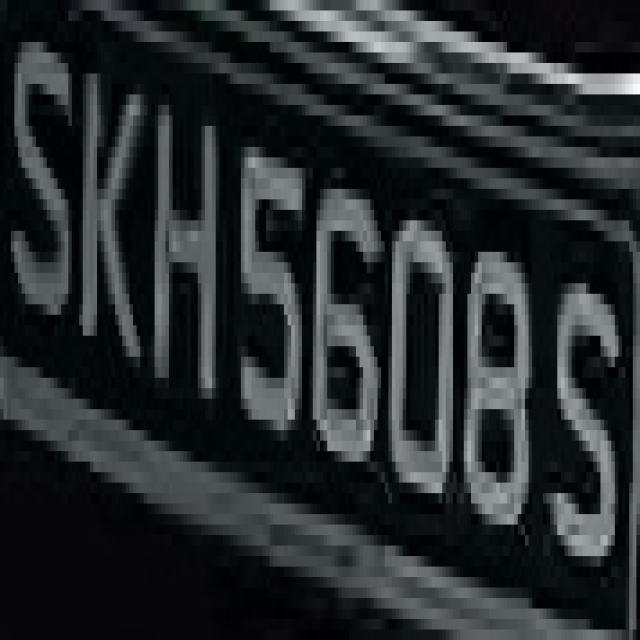0: (381, 158, 460, 546)
5: (219, 116, 306, 440)
6: (306, 126, 378, 514)
8: (453, 231, 547, 566)
H: (151, 74, 227, 451)
K: (68, 0, 148, 388)
S: (550, 231, 622, 598), (11, 11, 75, 336)
